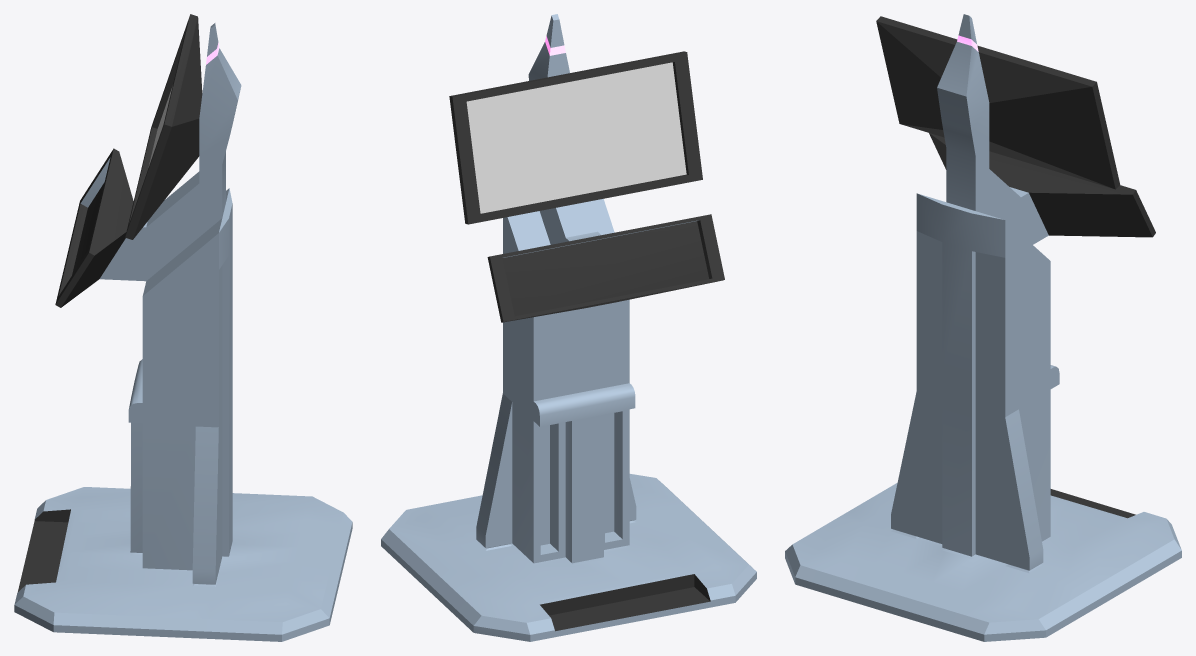
Rendered from TV_Cyberbreak.fbx.
3 renders of one model, left to right at view 1: azimuth 30°, elevation 25°; view 2: azimuth 150°, elevation 25°; view 3: azimuth 270°, elevation 25°, orthographic. The views are drawn at different scales.
Parts seen in each view (by area): view 1: Cube.009; view 2: Cube.009; view 3: Cube.009.
Part boxes in pixels (<box>): Cube.009: <box>14,14,352,641</box>; Cube.009: <box>381,14,756,641</box>; Cube.009: <box>785,14,1181,641</box>.
Size of the model in its own units: 247 by 381 by 247.
